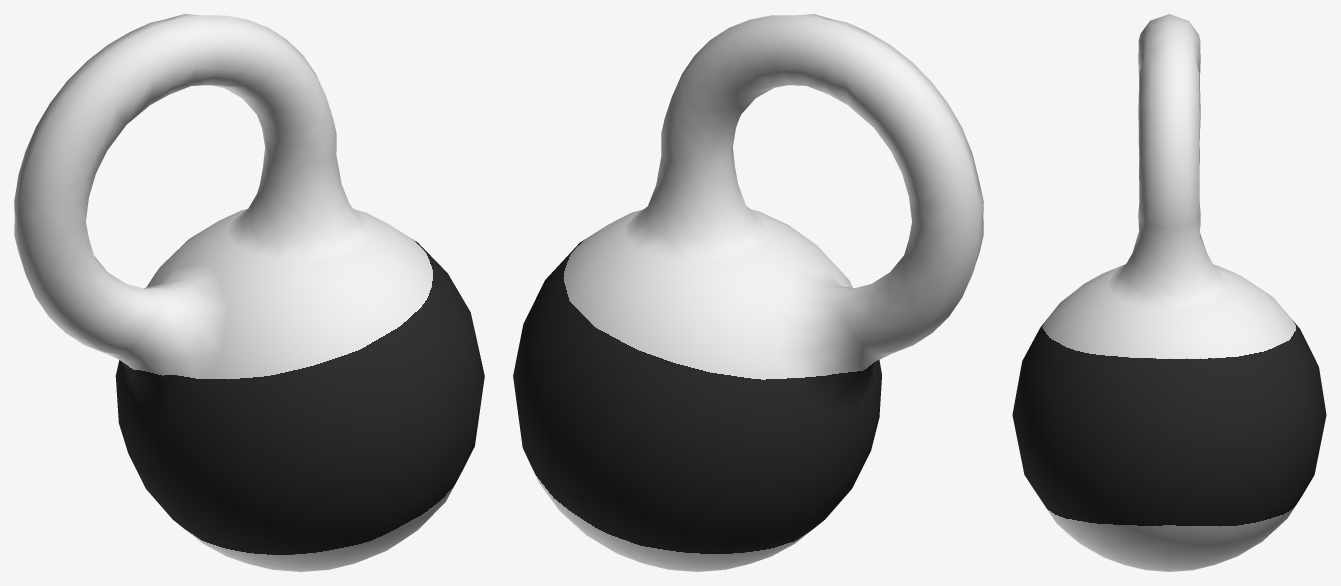
The model's file is klein_bottle_occ_heat_result.glb.
The picture shows the model from 3 angles, left to right: view 1: azimuth 30°, elevation 25°; view 2: azimuth 150°, elevation 25°; view 3: azimuth 270°, elevation 25°; orthographic projection. The views are drawn at different scales.
Bounding box in the file's own units: 139 × 164 × 100.
1 material, 1 textured.
